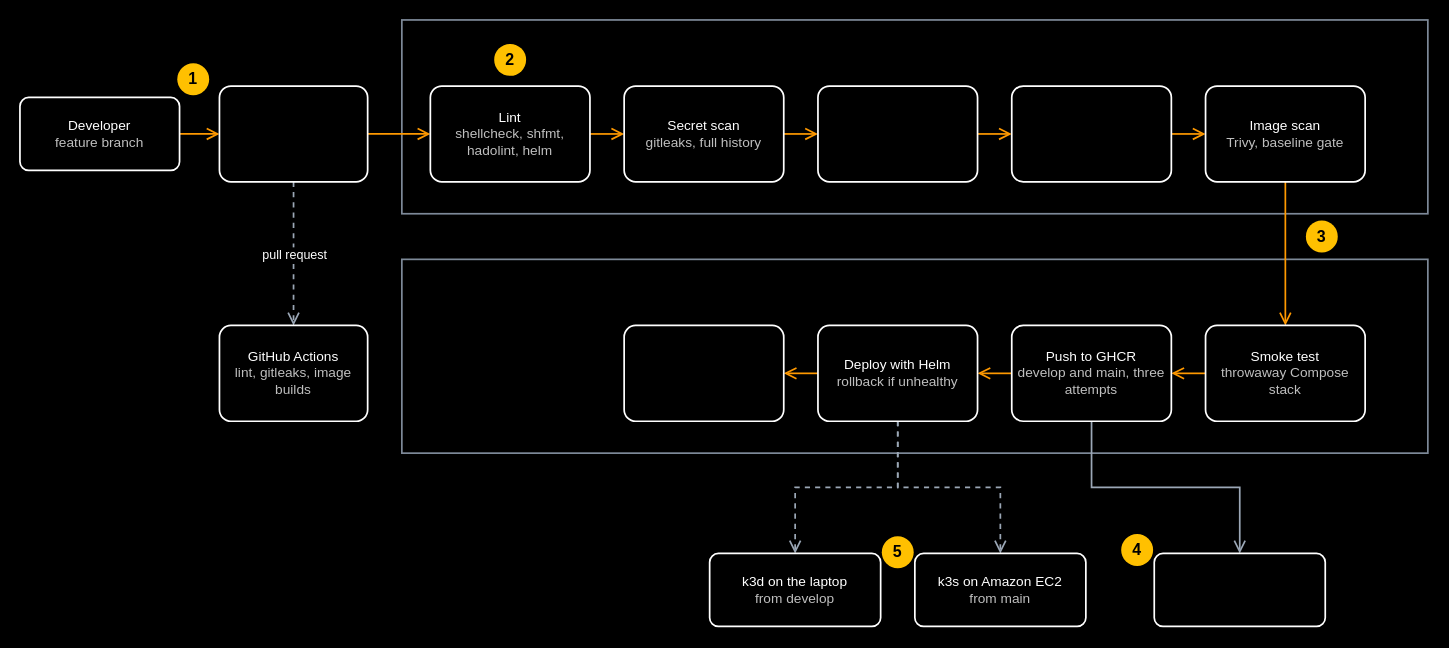
Some shapes in this 1449 by 648 pixel diagram are drawn without their labels. The box of each missing label's shape, as (x1, y1, x2, y2) in pixels:
Build images tag = commit SHA: (1010, 85, 1172, 182)
Dependency audit npm audit, baseline gate: (817, 85, 978, 182)
GitHub Container Registry: (1153, 552, 1326, 627)
GitHub pull request, branch rules: (218, 85, 368, 182)
Jenkins multibranch job: scans the repository every 2 minutes: (400, 19, 1428, 214)
Jenkins, continued: (400, 258, 1428, 453)
Post-deploy check smoke test on the running shop: (623, 324, 784, 422)
